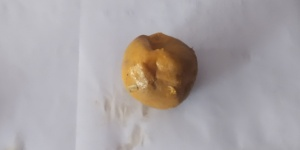BAD: (121, 31, 195, 109)
